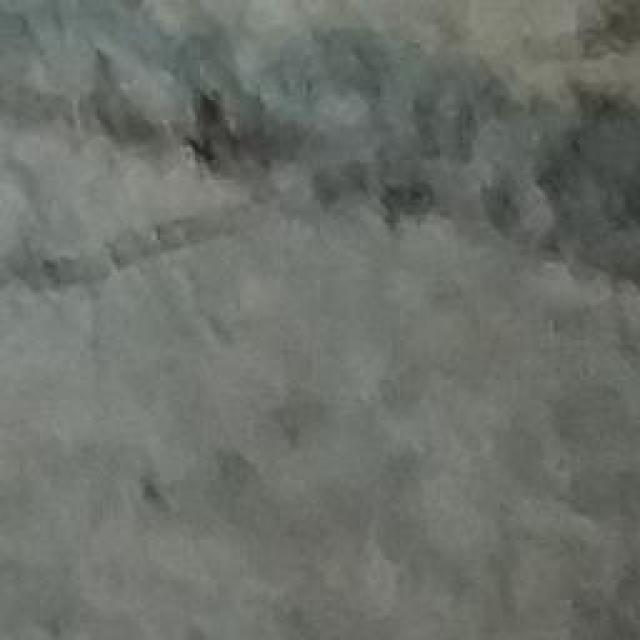Rippled: (13, 8, 640, 336)
